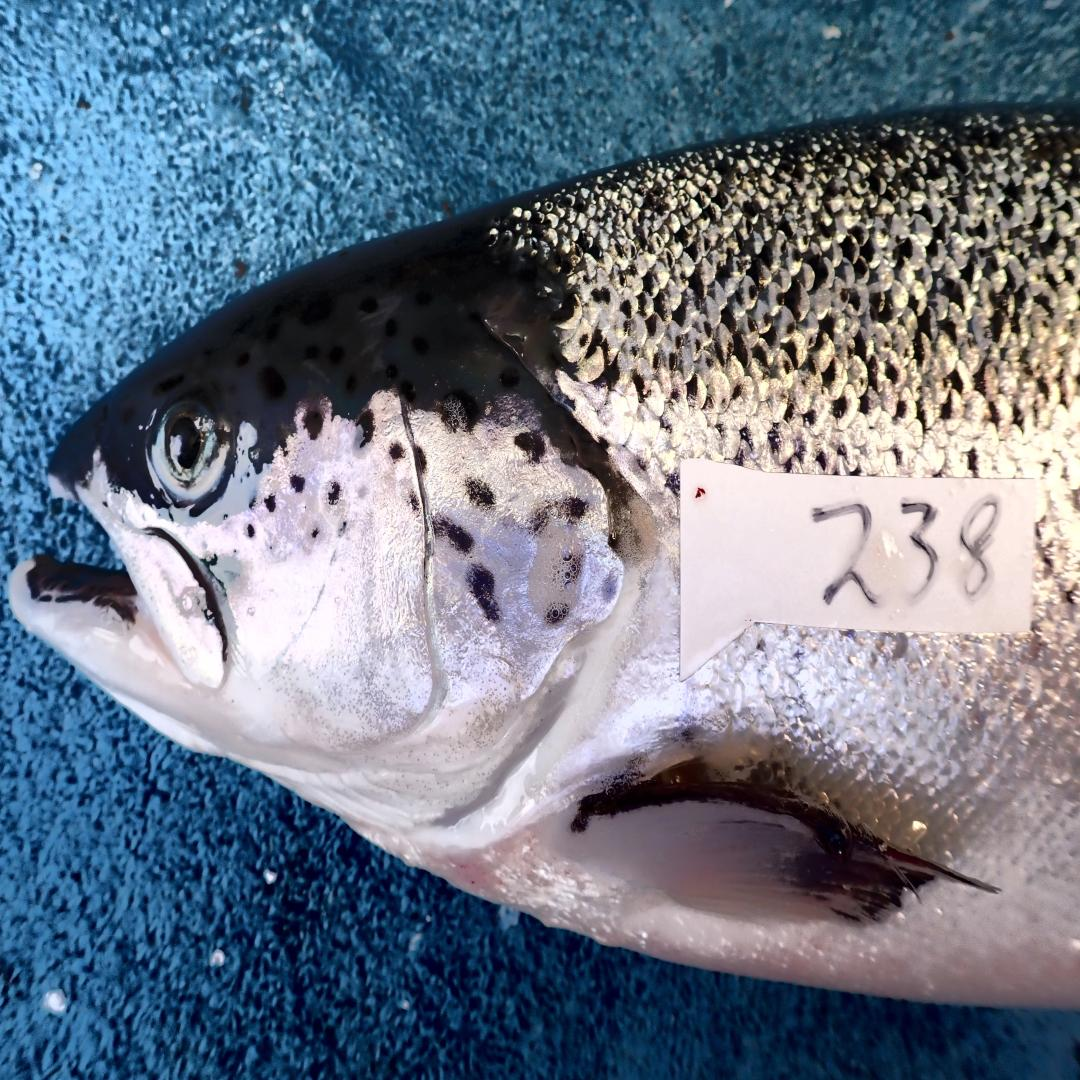spot: (466, 565, 500, 622), (432, 515, 475, 554), (527, 497, 552, 534), (515, 433, 544, 464), (466, 478, 496, 506), (559, 498, 589, 523), (356, 408, 375, 447), (304, 408, 323, 439), (564, 552, 584, 580), (546, 605, 570, 624), (599, 572, 615, 600), (413, 443, 427, 474), (388, 442, 405, 461), (408, 491, 421, 515), (329, 482, 341, 507), (289, 475, 306, 492), (264, 495, 276, 512), (310, 524, 320, 539), (338, 518, 346, 535), (247, 523, 255, 537)
